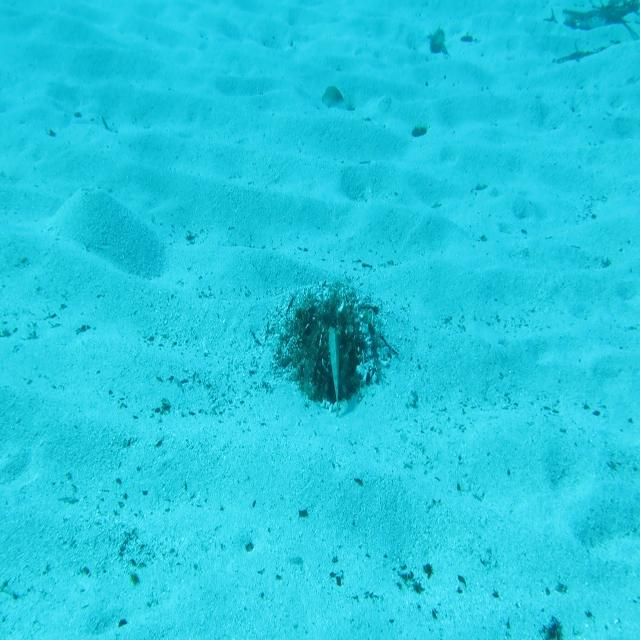FAN: (324, 320, 347, 420)
female: (318, 85, 351, 113)
nest: (265, 280, 394, 415)
